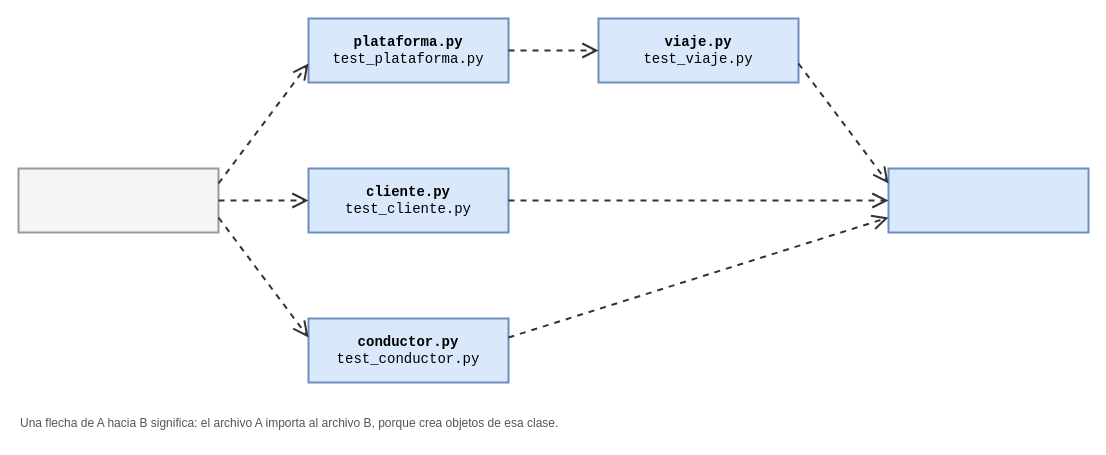
This 1106x455 diagram has some shape labels left out. The box of each missing label's shape, as (x1, y1, x2, y2) in pixels:
main.py el menú: (17, 167, 219, 233)
punto.py test_punto.py: (887, 167, 1089, 233)
